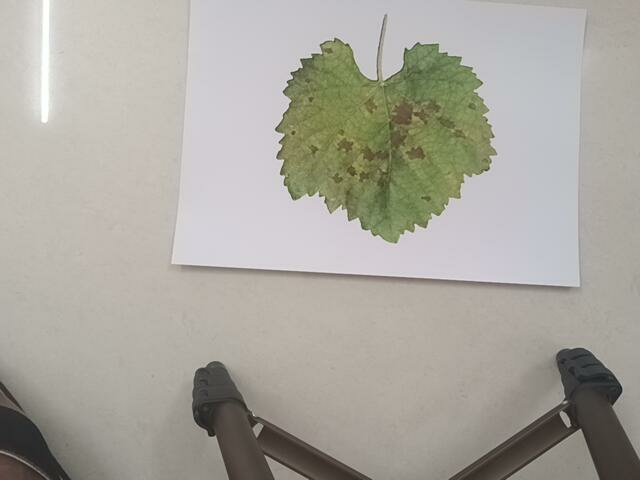Grape_Leaf_Vine_Disease: (269, 10, 518, 246)
